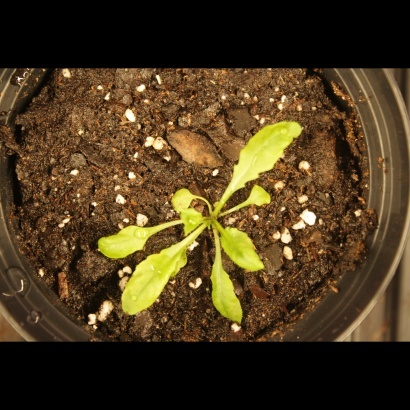leaf: (117, 238, 193, 320), (230, 119, 306, 190), (206, 249, 248, 328), (92, 220, 162, 260), (221, 224, 269, 277), (166, 184, 198, 217), (176, 207, 206, 238), (249, 180, 277, 211)
